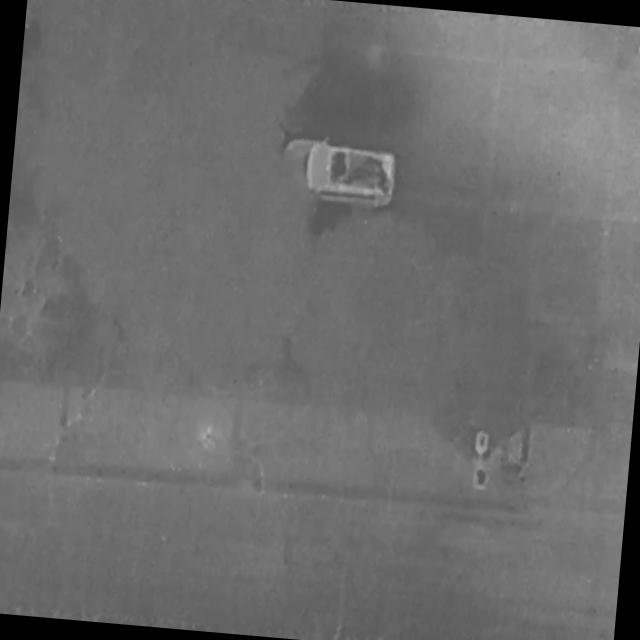person: (633, 30, 640, 68)
